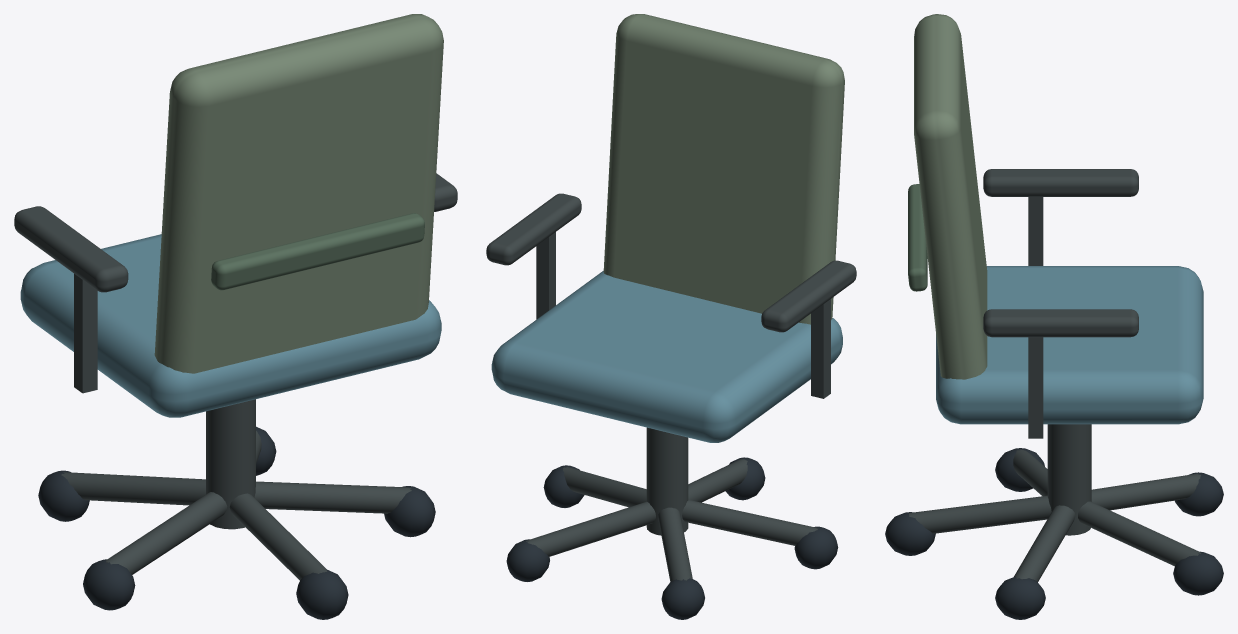
The model's file is chair.glb.
3 views of the same model, side by side, from view 1: azimuth 30°, elevation 25°; view 2: azimuth 150°, elevation 25°; view 3: azimuth 270°, elevation 25° (orthographic). The views are drawn at different scales.
Bounding box in the file's own units: 1.08 × 1.6 × 1.
